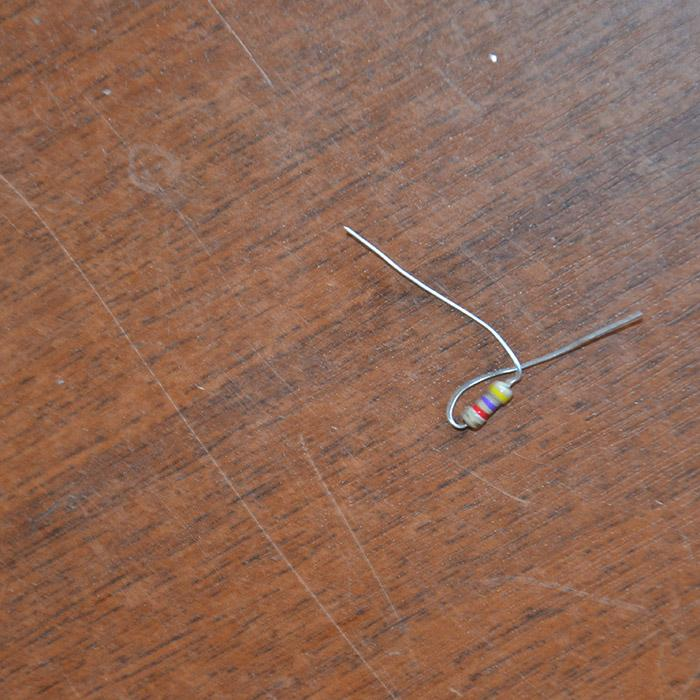resistor: (458, 379, 514, 430)
